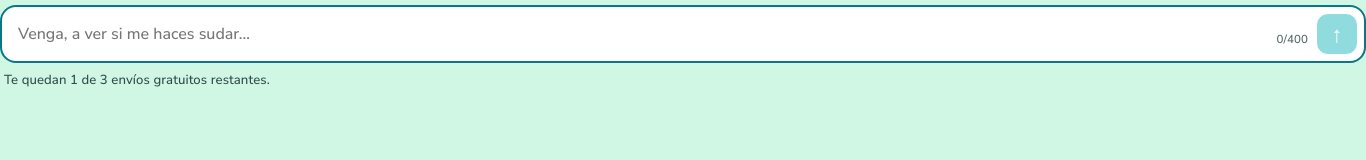
Scenario: RoastInput › shows a readable error and preserves the draft after a failed request
Type "Mi borrador" into the field named "tu insulto" at (638, 34), box [8, 13, 1268, 55]
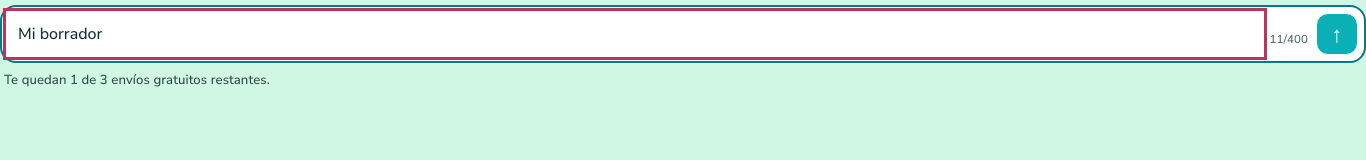
Click the button named "Enviar insulto" at (1337, 34), box [1316, 13, 1358, 55]
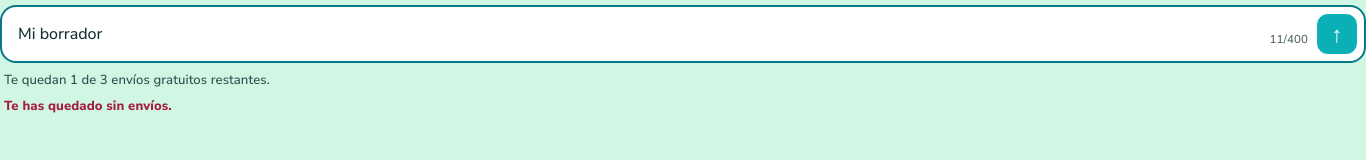
Check: the message "Te has quedado sin envíos." is shown, box [4, 97, 172, 115]
